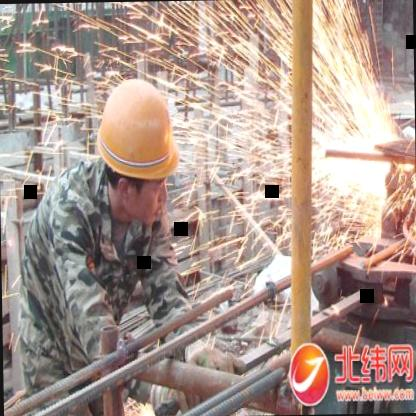helmet: (87, 60, 190, 238)
